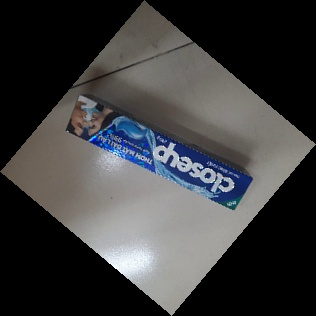CloseUp Tuyet: (64, 94, 255, 212)
